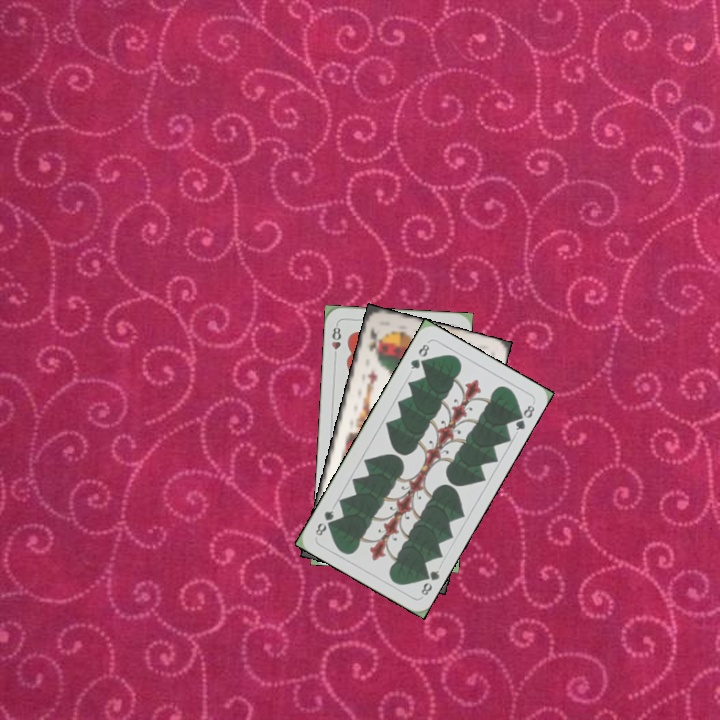G8: (406, 339, 432, 372), (417, 566, 442, 598)
H8: (328, 320, 343, 361)
SK: (364, 323, 381, 354)
